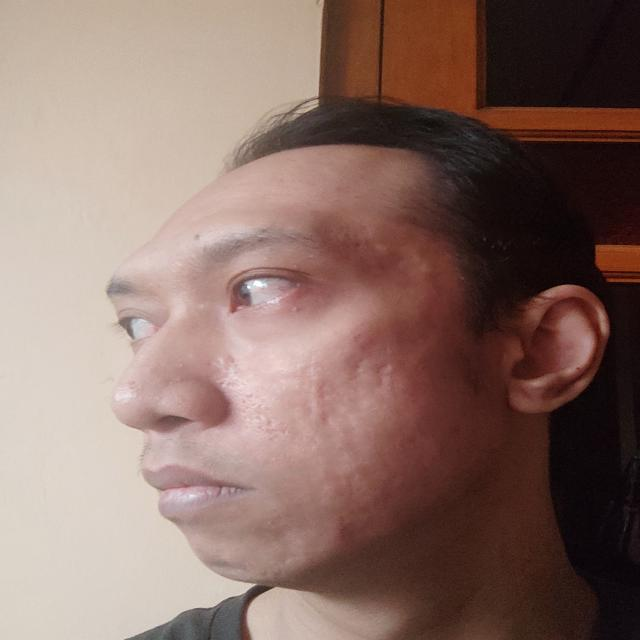Acne: (333, 513, 358, 536), (349, 236, 373, 252), (186, 230, 207, 242), (345, 190, 366, 200), (376, 192, 394, 200)
Englarged-Pores: (216, 362, 290, 445), (122, 378, 162, 402)
